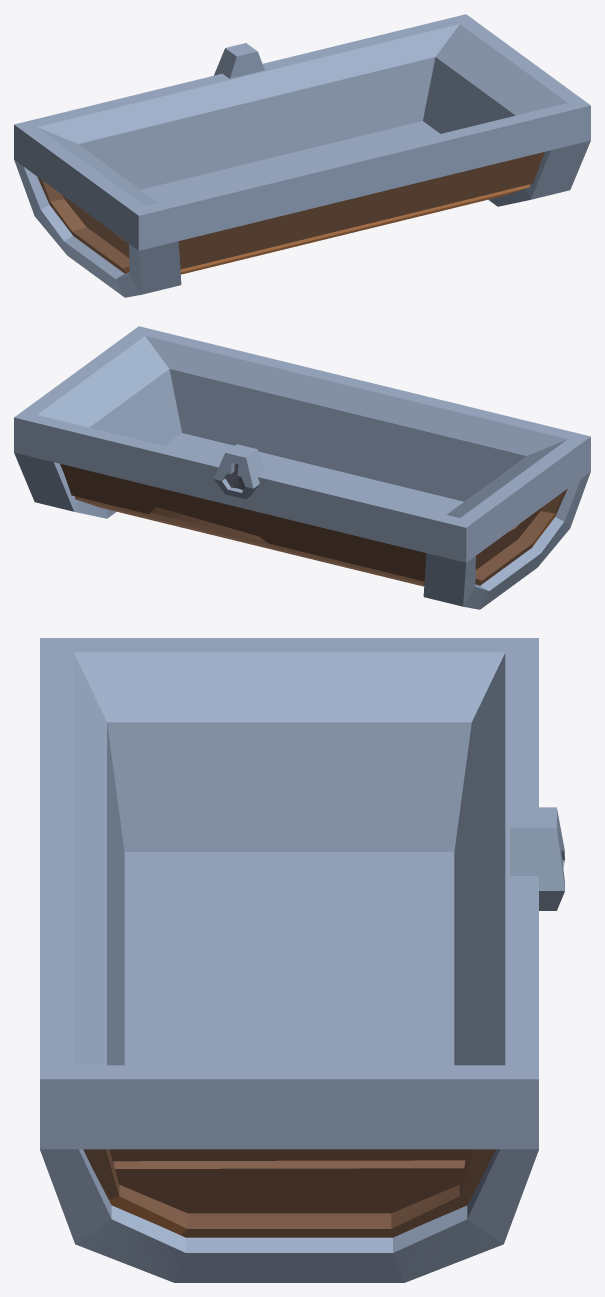
The model's file is Chest_Large_Lid.fbx.
3 renders of one model, top to bottom at view 1: azimuth 30°, elevation 25°; view 2: azimuth 150°, elevation 25°; view 3: azimuth 270°, elevation 25°, orthographic. The views are drawn at different scales.
Visible parts, largest first — view 1: Chest_Large_Lid; view 2: Chest_Large_Lid; view 3: Chest_Large_Lid.
Part boxes in pixels (bbox=[...]): Chest_Large_Lid: bbox=[14, 14, 590, 297]; Chest_Large_Lid: bbox=[14, 326, 590, 609]; Chest_Large_Lid: bbox=[40, 638, 564, 1282].
Size of the model in its own units: 2.05 by 1.03 by 0.5706.
